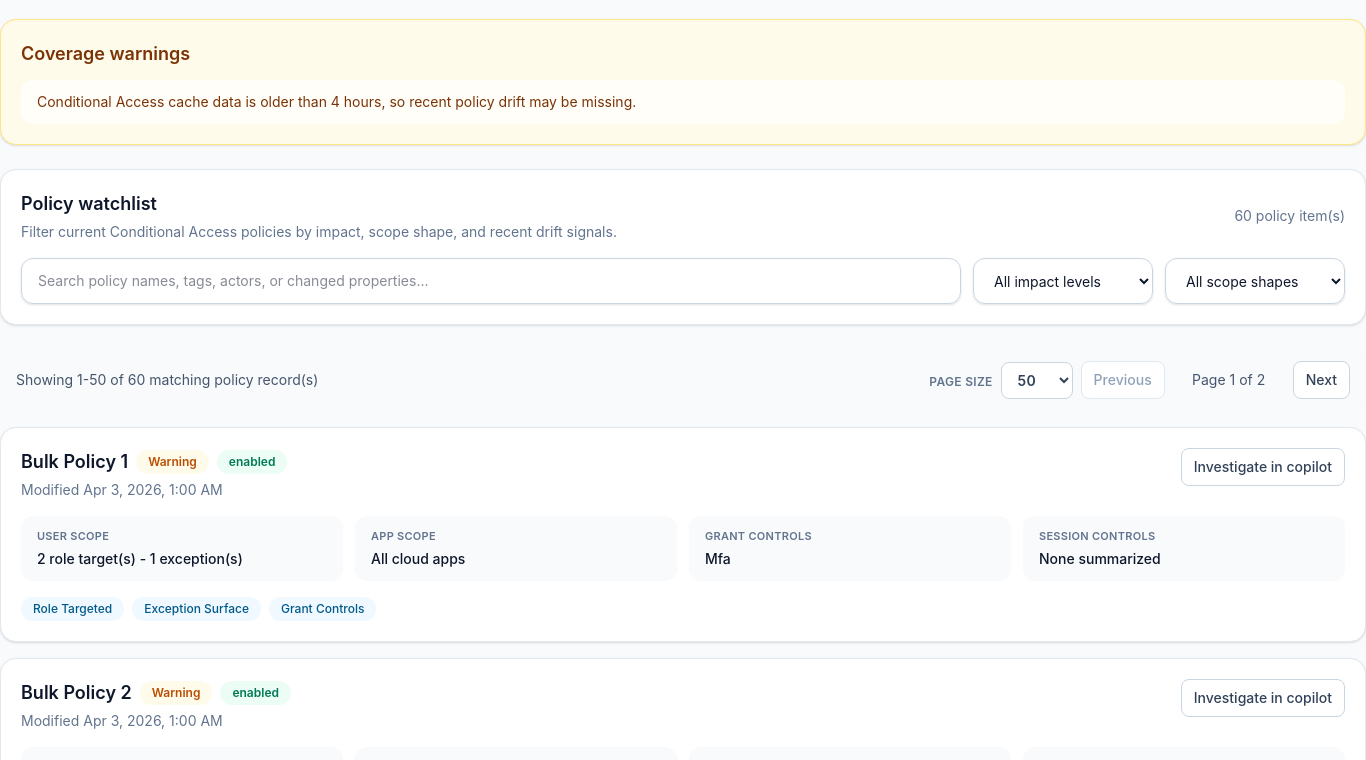
Scenario: AzureSecurityConditionalAccessTrackerPage › pages large policy watchlists and change feeds
The image size is (1366, 760).
(page scrolled)
Expected: the heading "Policy watchlist" is shown, [21,193,157,214]
Expected: the text "Showing 1-50 of 60 matching policy record(s)" is shown, [16,370,318,390]
Click the button "Next".
click(1321, 380)  # box [1293,361,1350,399]
(page scrolled)
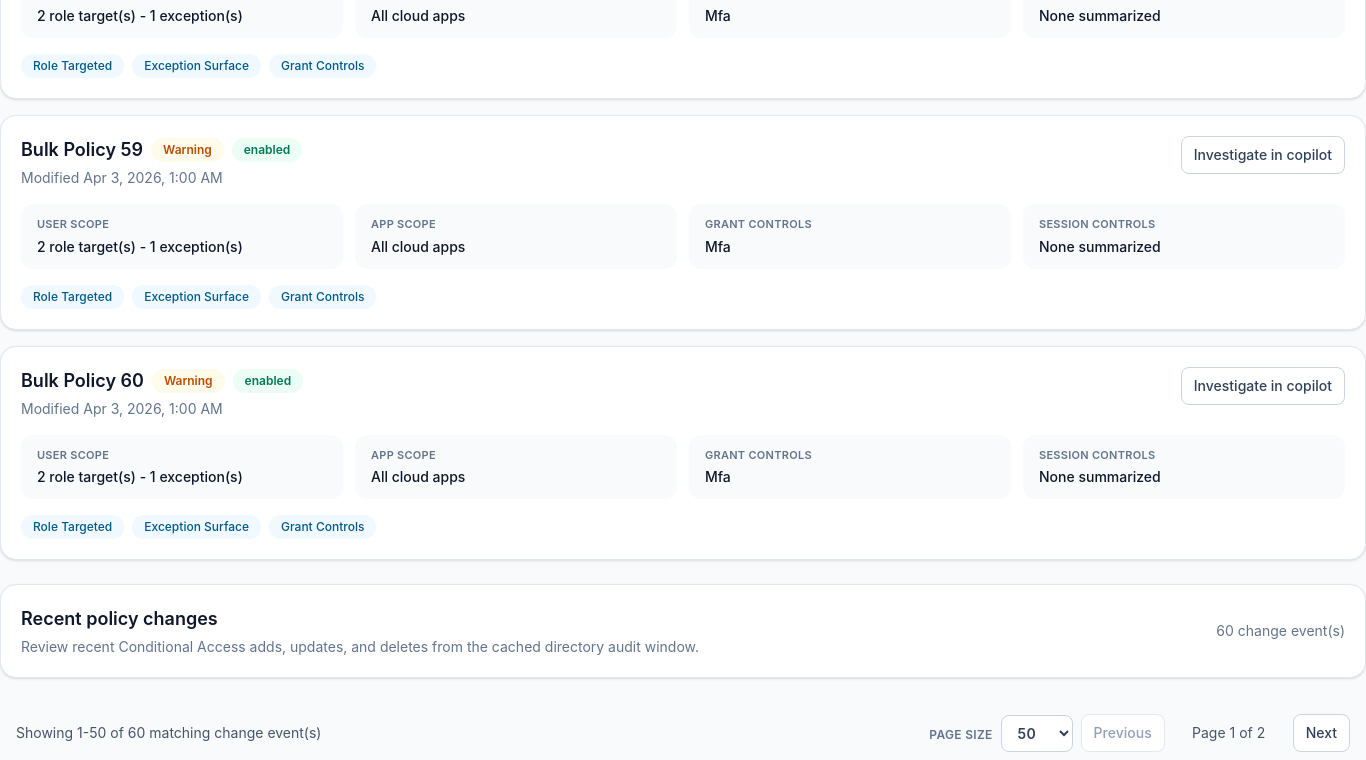
Expected: the heading "Bulk Policy 60" is shown, [21,366,144,394]
